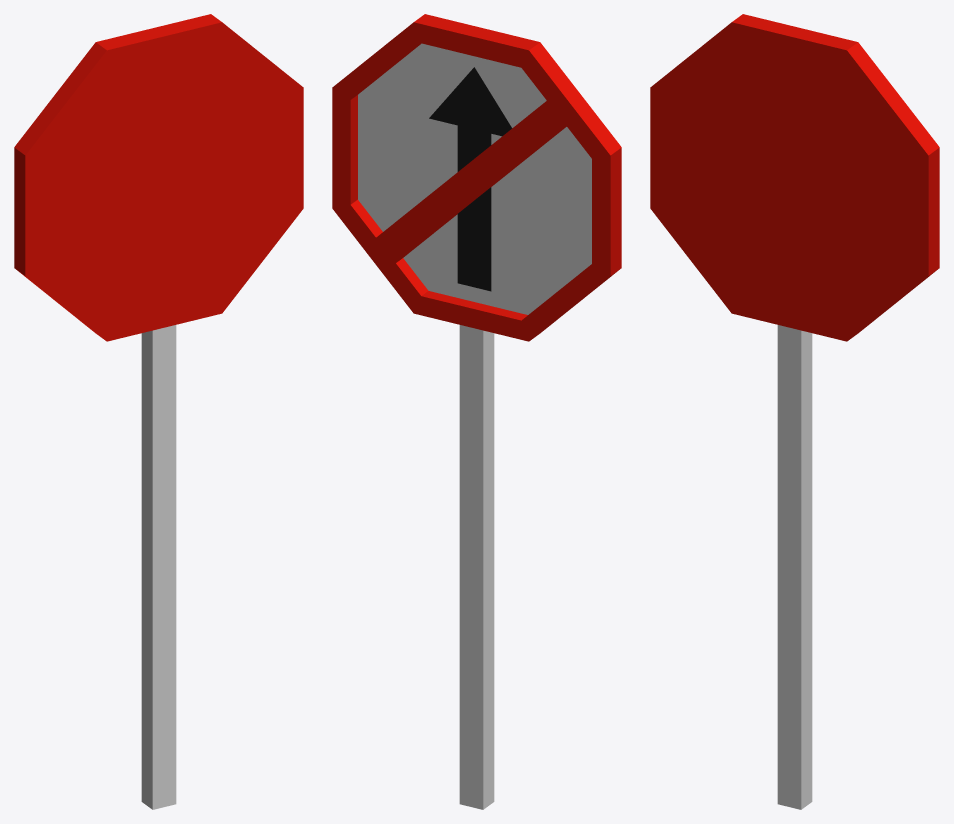
Rendered from no_way_sign.fbx.
The picture shows the model from 3 angles, left to right: view 1: azimuth 30°, elevation 25°; view 2: azimuth 150°, elevation 25°; view 3: azimuth 330°, elevation 25°; orthographic projection.
Visible parts, largest first — view 1: no_way_sign; view 2: no_way_sign; view 3: no_way_sign.
Part boxes in pixels (box(x1,y1,x2,y2)): no_way_sign: box(14, 14, 303, 809); no_way_sign: box(332, 14, 621, 809); no_way_sign: box(650, 14, 939, 809).
Size of the model in its own units: 185 by 489 by 12.97.
